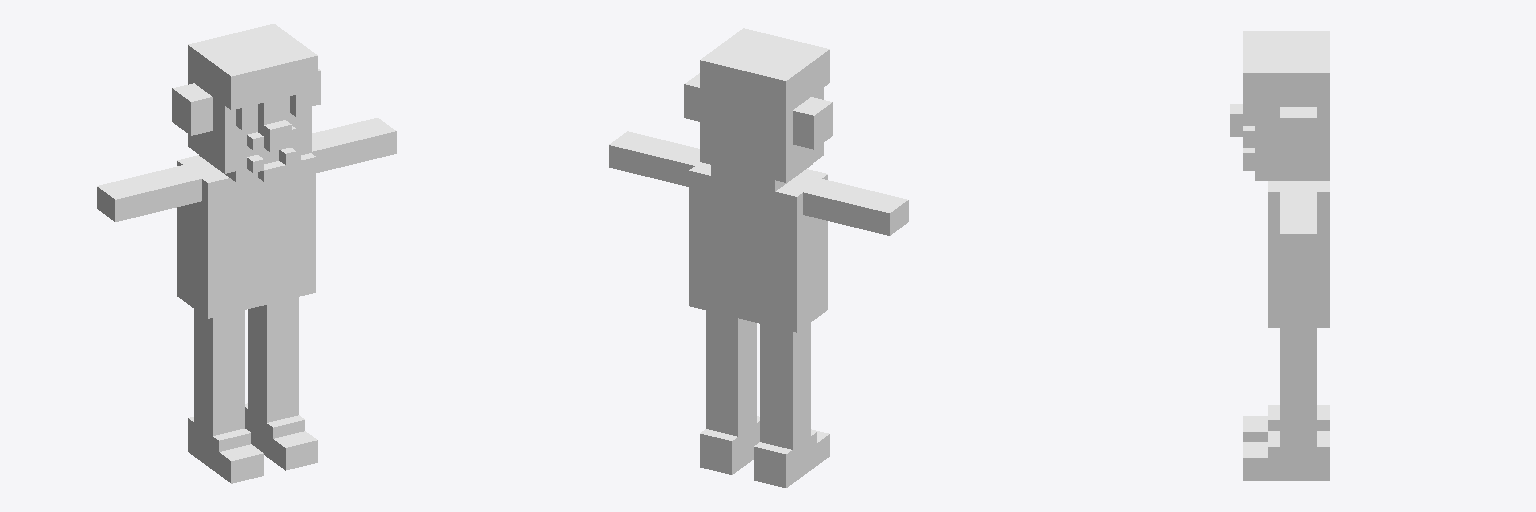
The model's file is RedTeam.obj.
The picture shows the model from 3 angles: view 1: azimuth 30°, elevation 25°; view 2: azimuth 150°, elevation 25°; view 3: azimuth 270°, elevation 25°; orthographic projection.
Parts seen in each view (by area): view 1: RedTeam; view 2: RedTeam; view 3: RedTeam.
Boxes of the visible parts, x1,y1,x2,y2 form: RedTeam: [97, 24, 396, 483]; RedTeam: [609, 28, 908, 487]; RedTeam: [1230, 31, 1329, 480].
Size of the model in its own units: 26 by 36 by 8.